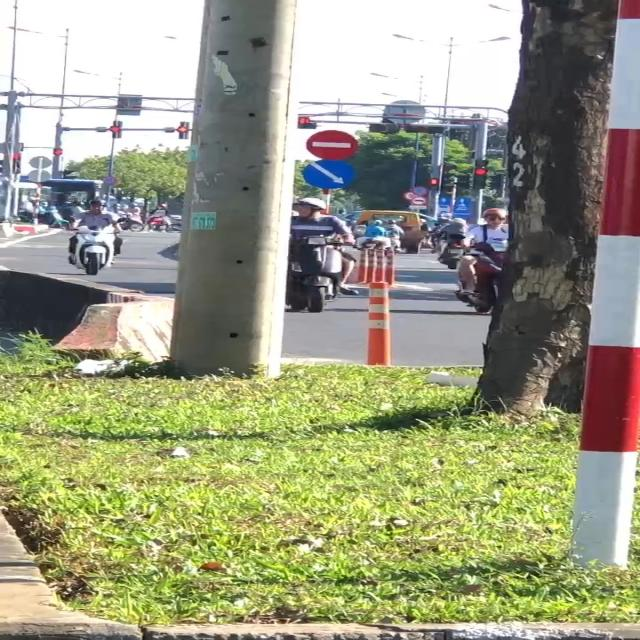Bien bao cam di nguoc chieu: (305, 128, 362, 160)
Bien bao huong phai di vong chuong ngai vat: (302, 159, 363, 191)
